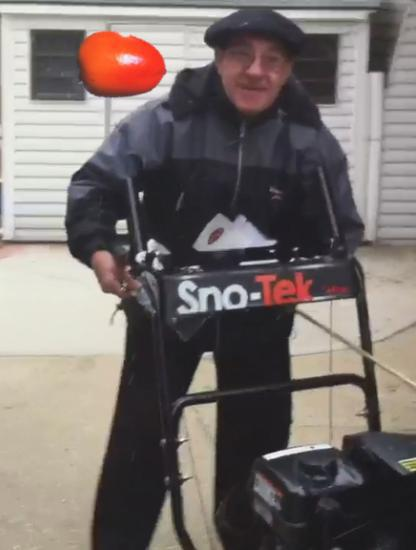Kaki: (76, 22, 167, 113)
